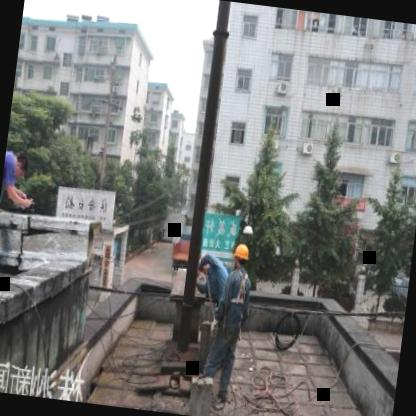head: (10, 150, 32, 178)
helmet: (230, 242, 254, 269)
